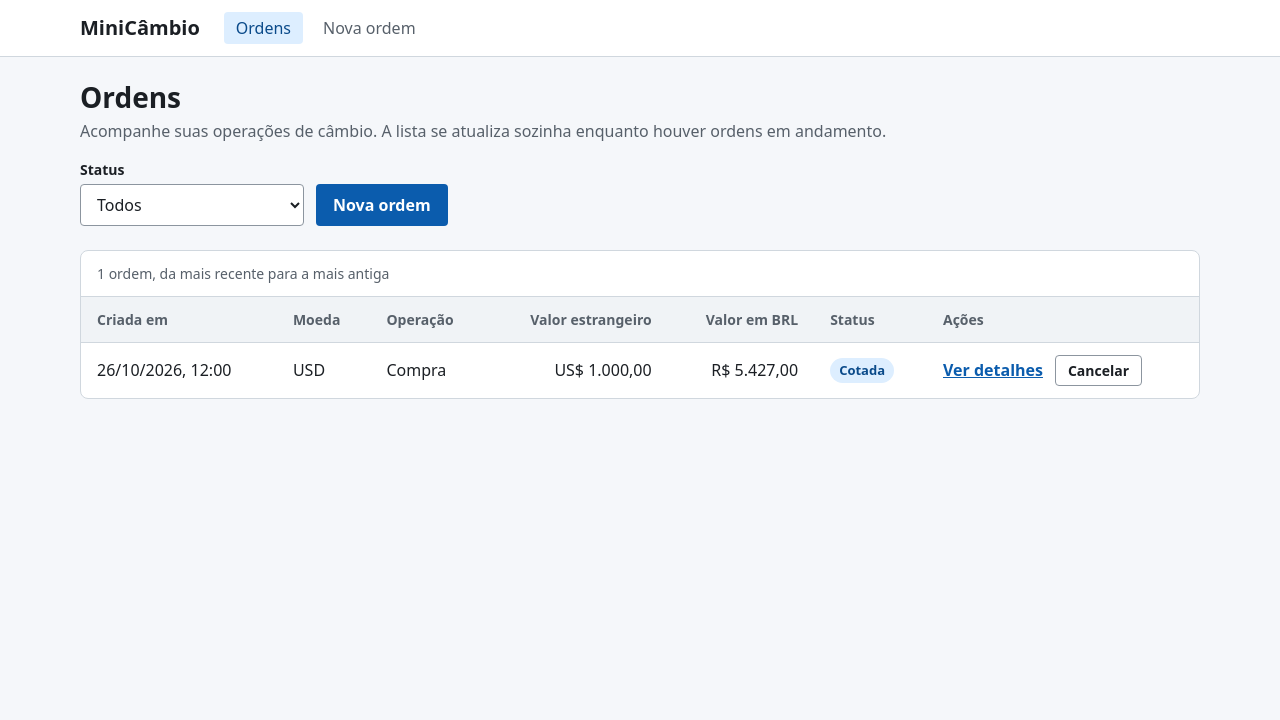
Scenario: OrdersListPage › cancela pela lista depois de confirmar no diálogo
Click the button "Cancelar".
click(1099, 370)  # box 1055,355 -> 1142,386
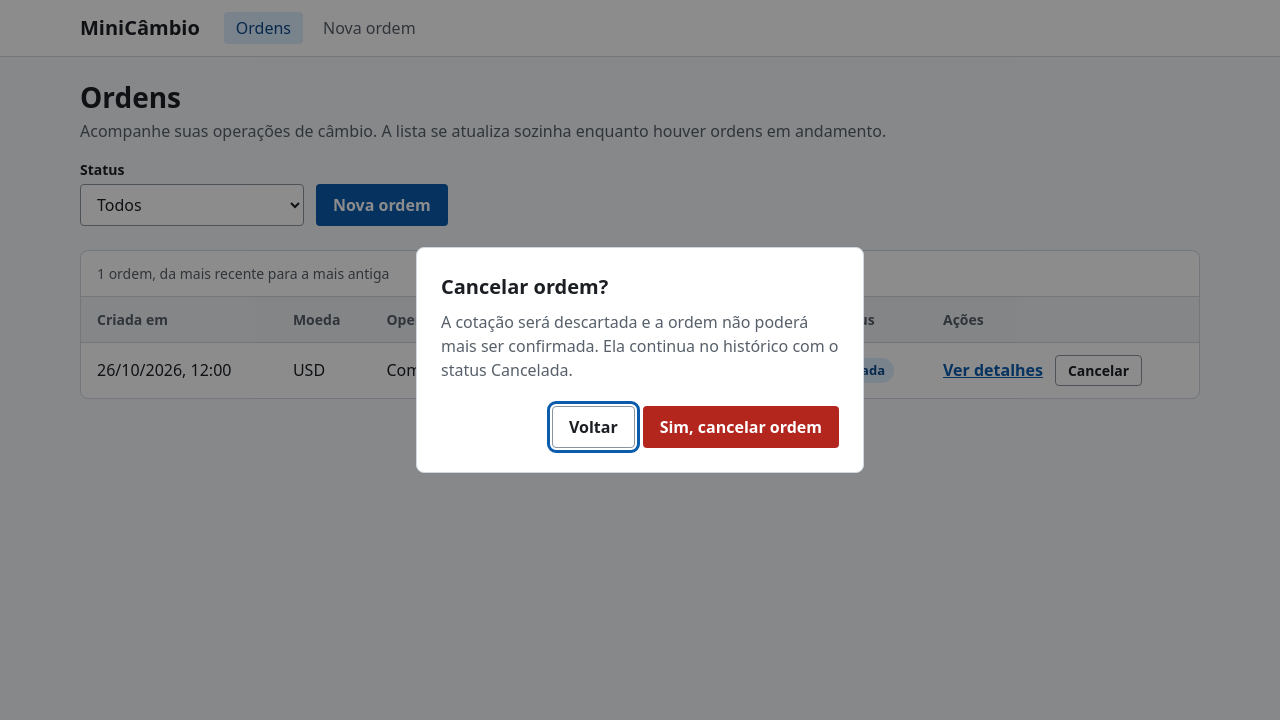
Click the button "Sim, cancelar ordem".
click(741, 427)  # box 643,406 -> 839,448
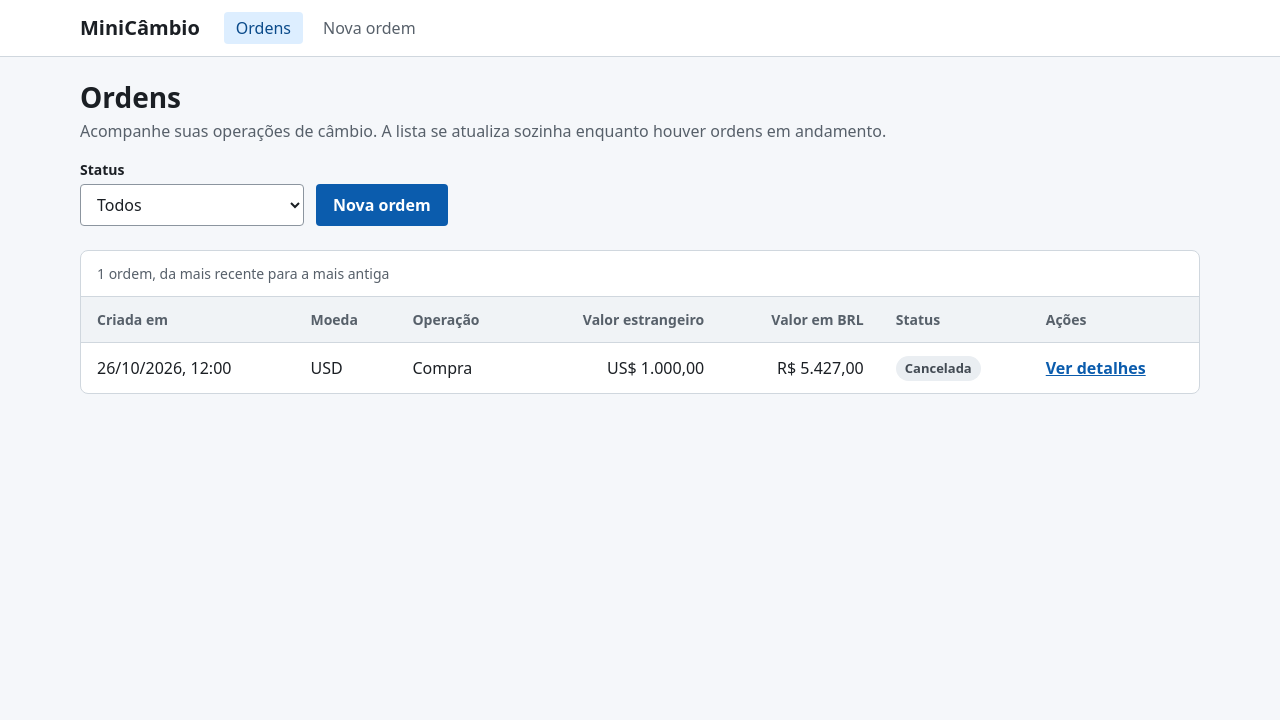
Check: the dialog is gone
Check: the text "Cancelada" is shown, box 896,356 -> 981,381
Check: the button "Cancelar" is gone
